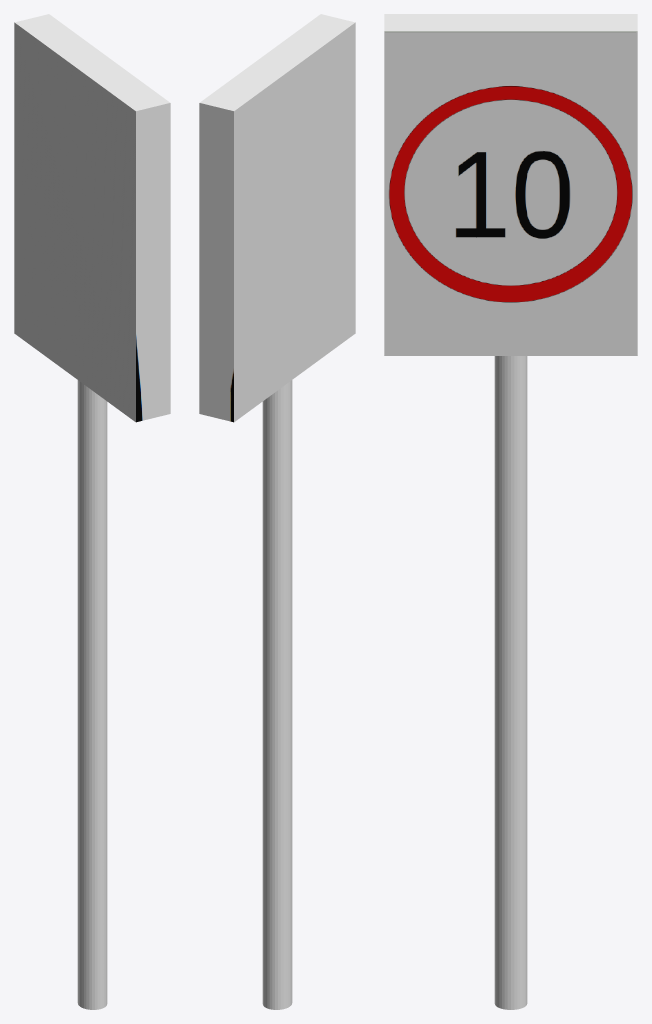
Rendered from sign10.dae.
3 renders of one model, left to right at view 1: azimuth 30°, elevation 25°; view 2: azimuth 150°, elevation 25°; view 3: azimuth 270°, elevation 25°, orthographic. The views are drawn at different scales.
Parts seen in each view (by area): view 1: Cube; view 2: Cube; view 3: Cube.
Part boxes in pixels (x1,y1,x2,y2): Cube: (14,14,170,1009); Cube: (199,14,355,1009); Cube: (384,14,637,1009).
Bounding box in the file's own units: 0.0692 × 0.42 × 1.8.
Materials: 1 (1 with a texture image).
